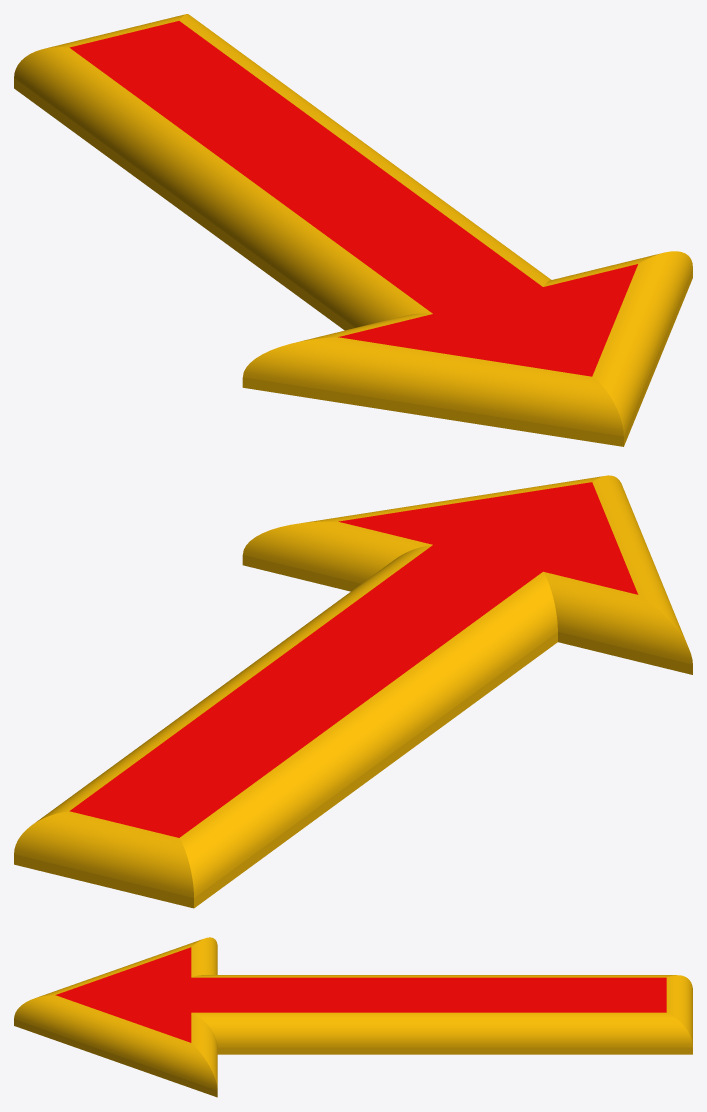
Rendered from AR_Arrow.fbx.
3 views of the same model, one above another, from view 1: azimuth 30°, elevation 25°; view 2: azimuth 150°, elevation 25°; view 3: azimuth 270°, elevation 25° (orthographic). The views are drawn at different scales.
Visible parts, largest first — view 1: Component_1_1; view 2: Component_1_1; view 3: Component_1_1.
Part boxes in pixels (left/top/right/bottom): Component_1_1: left=14, top=14, right=692, bottom=446; Component_1_1: left=14, top=475, right=692, bottom=908; Component_1_1: left=14, top=937, right=692, bottom=1097.
Bounding box in the file's own units: 500 × 50 × 1000.
